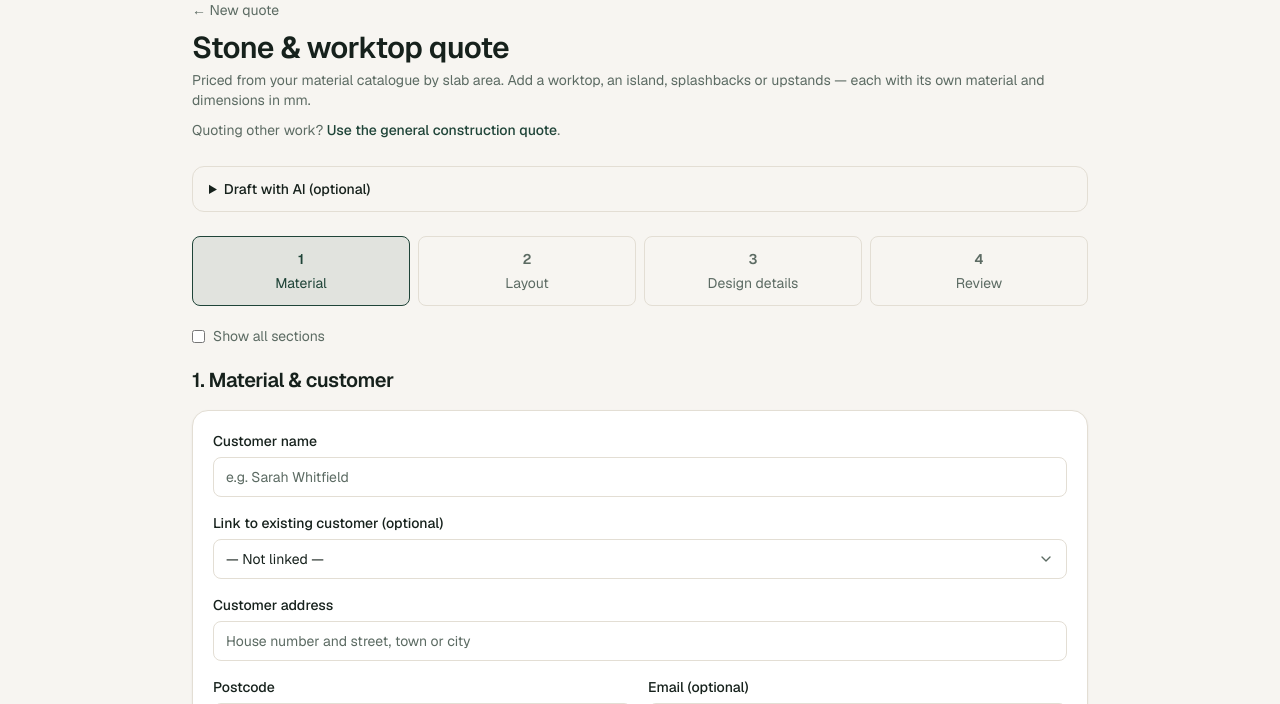
NewQuotePage — multi-item editor (Sprint 033) › duplicates an item, producing a third identical row
Click the heading "Draft with AI (optional)" at (297, 189), box [192, 166, 1088, 212]
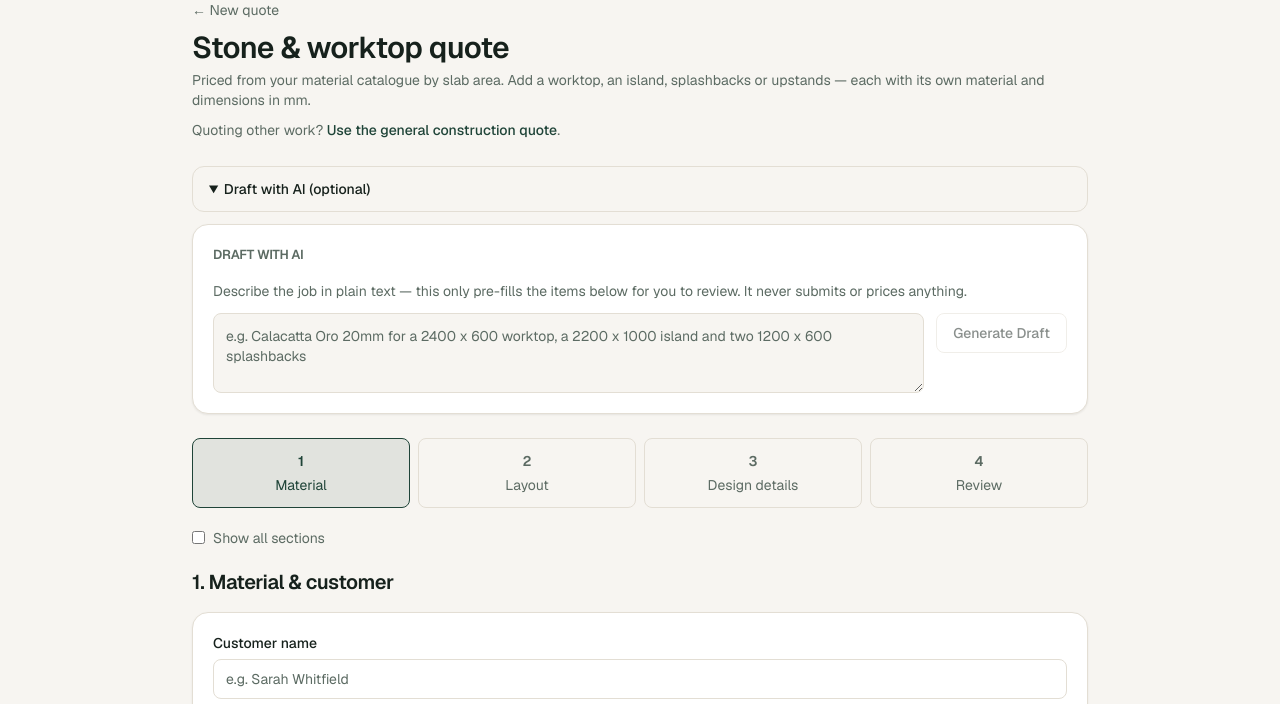
Click the checkbox labelled "Show all sections" at (198, 538), box [192, 531, 205, 544]
(page scrolled)
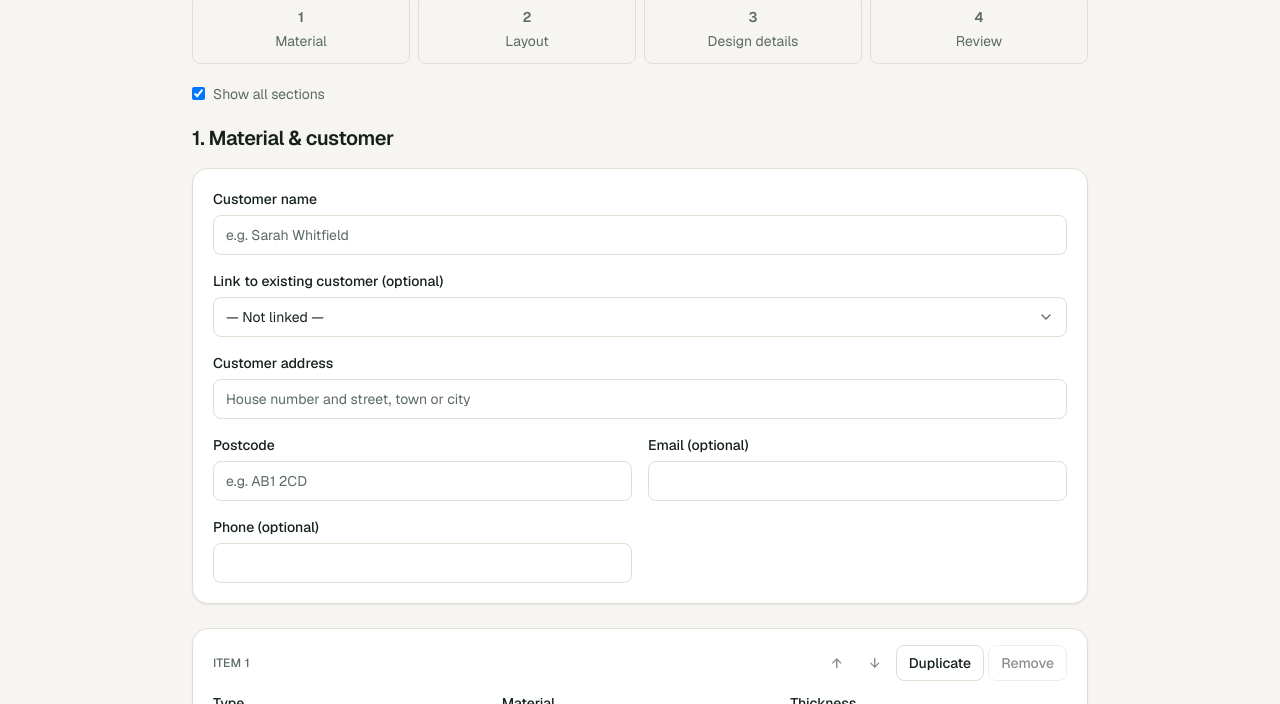
Type "1 Synthetic Street, London" into the field labelled "Customer address" at (640, 398), box [213, 378, 1067, 418]
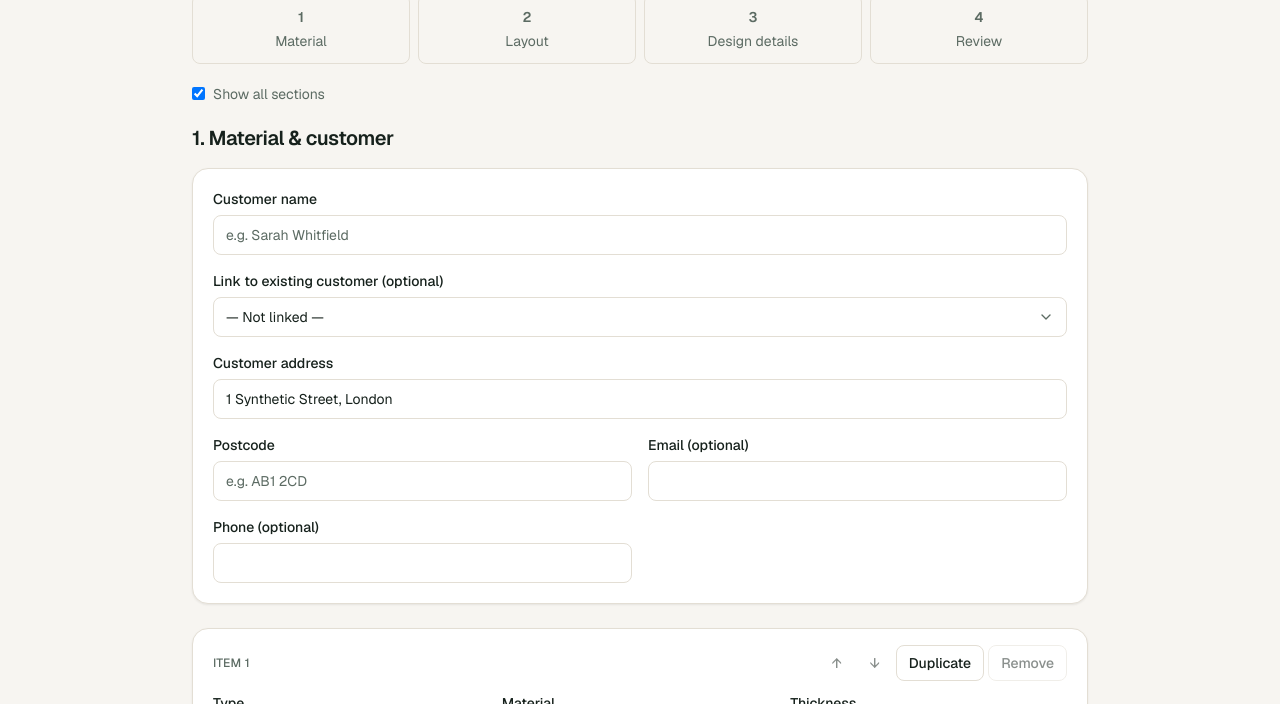
Type "NW2 7RP" into the field labelled "Postcode" at (422, 480), box [213, 460, 632, 500]
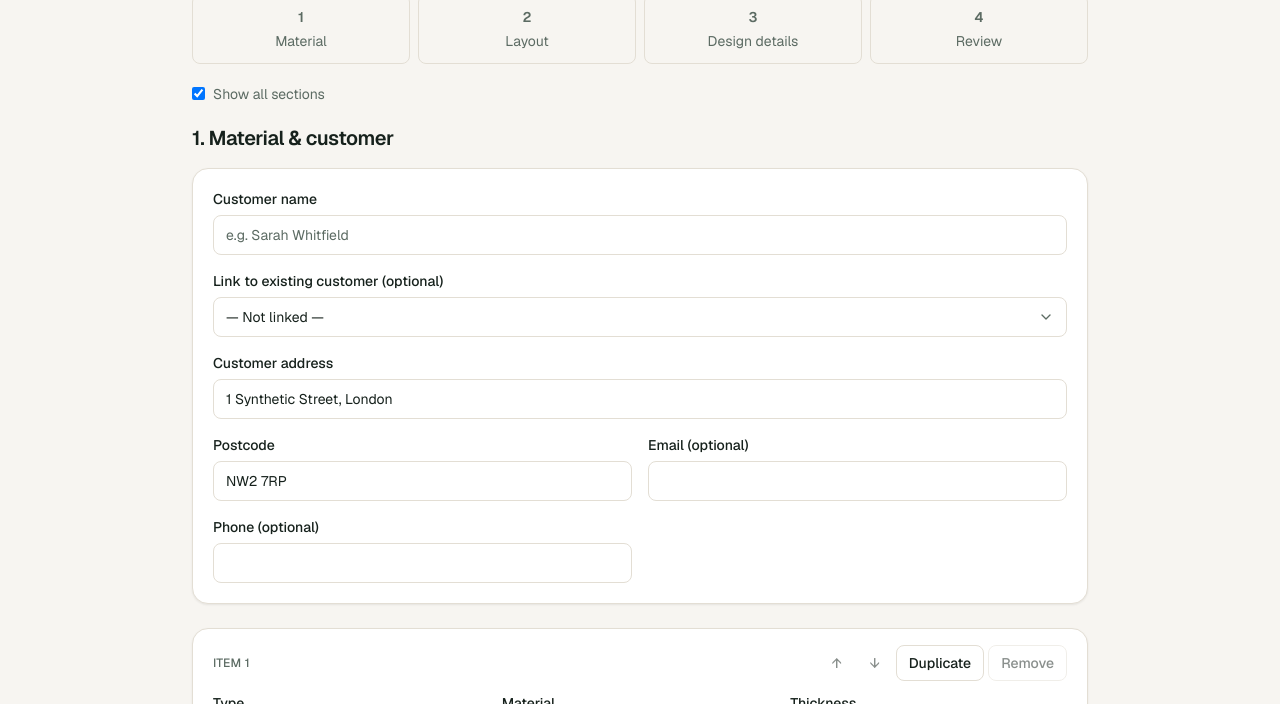
Expected: the text "Item 1" is shown, [213, 654, 250, 670]
Expected: the text "Item 2" is not shown
Click the button "Duplicate" at (940, 662), box [896, 644, 984, 680]
(page scrolled)
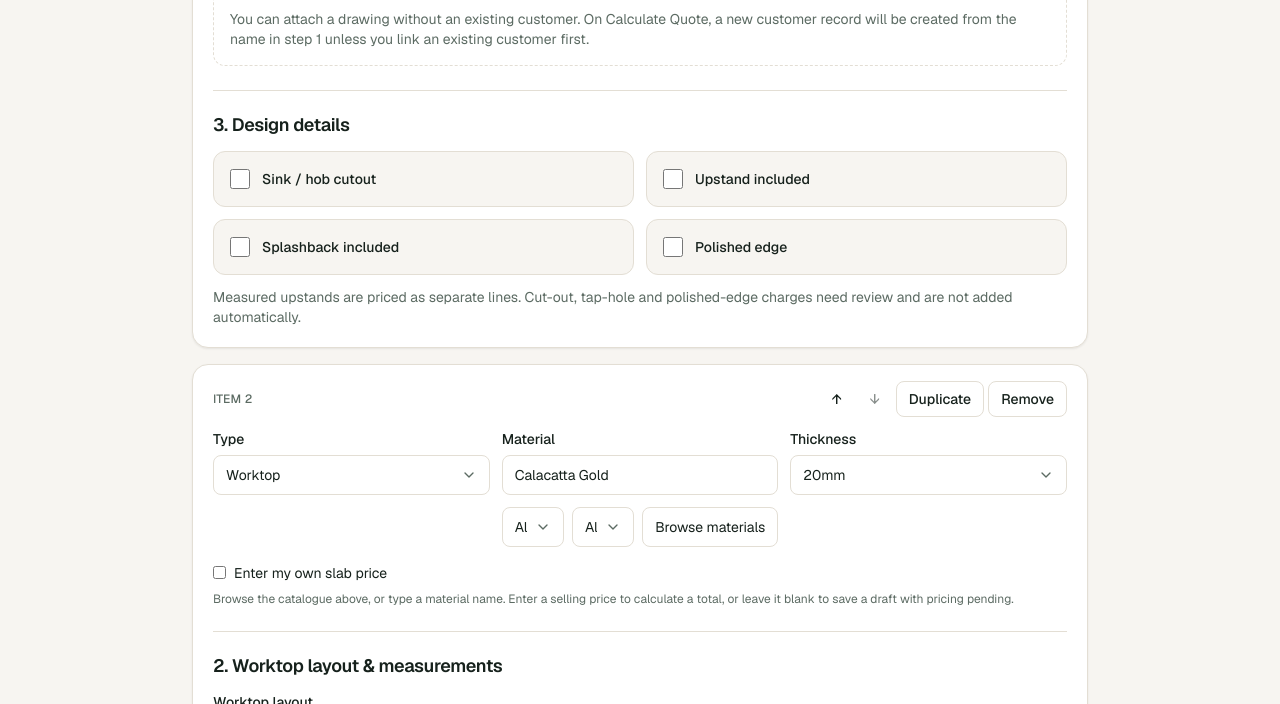
Result: the text "Item 2" is shown at [213, 390, 253, 406]
